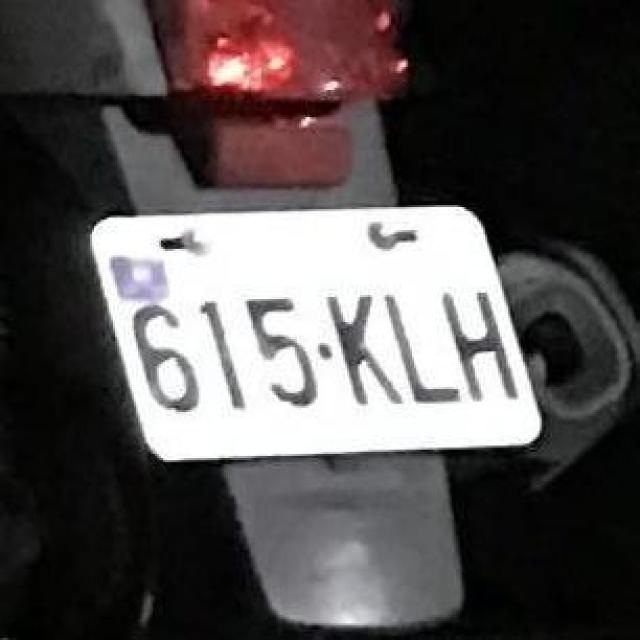W: (82, 178, 550, 481)
